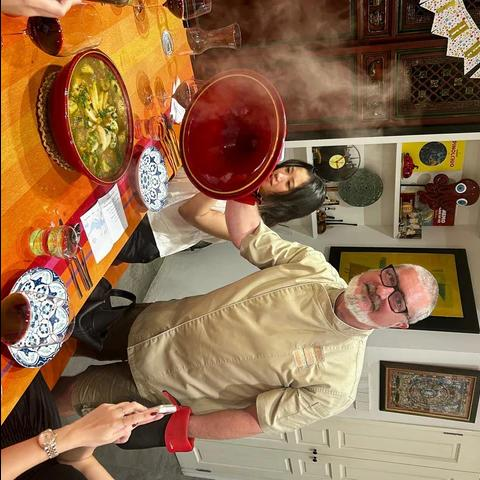controlled_fire: (31, 46, 418, 163)
